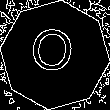O_S: (31, 27, 79, 83)
